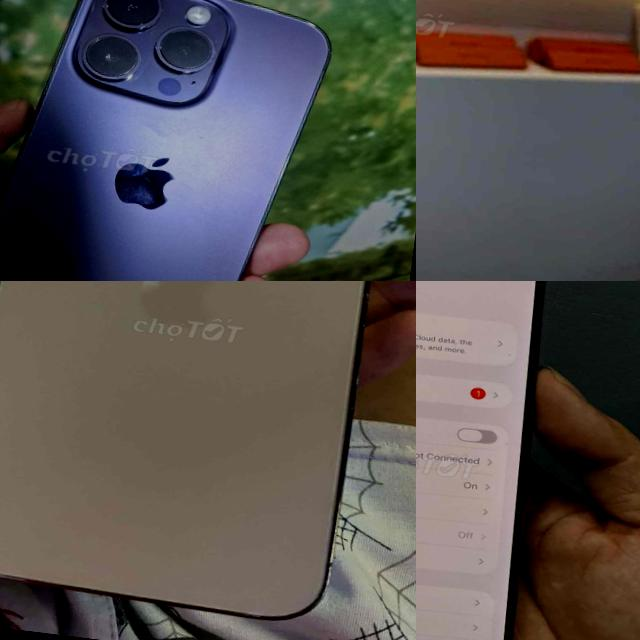gen_12_13: (0, 281, 413, 634)
gen_14: (0, 0, 334, 281)
gen_15: (416, 281, 582, 640)
